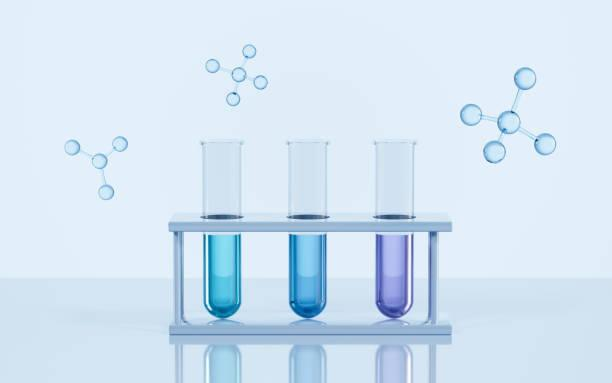Test tube: (273, 126, 335, 321), (193, 122, 245, 314), (365, 129, 414, 321)
